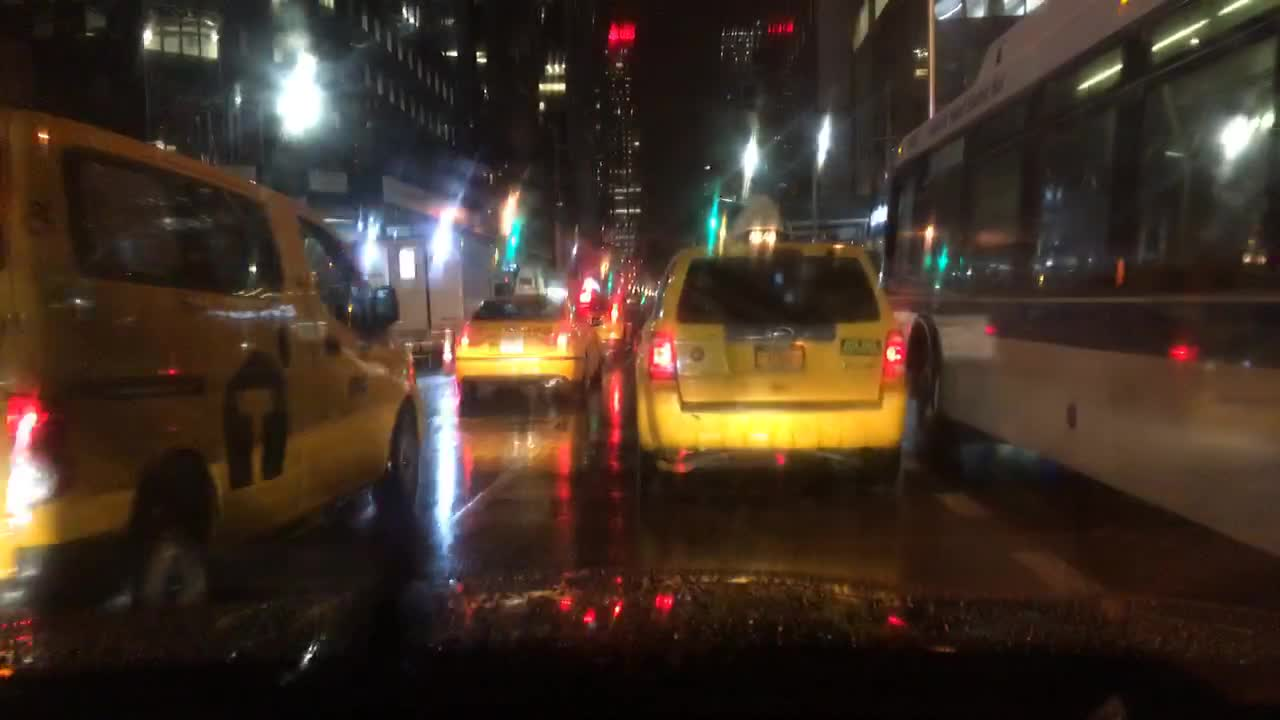bus: (848, 0, 1278, 549)
car: (0, 104, 425, 621), (628, 196, 911, 484), (455, 265, 606, 410), (571, 285, 631, 355)
traffic light: (509, 226, 520, 251), (706, 213, 717, 232)
truck: (346, 232, 499, 370)
